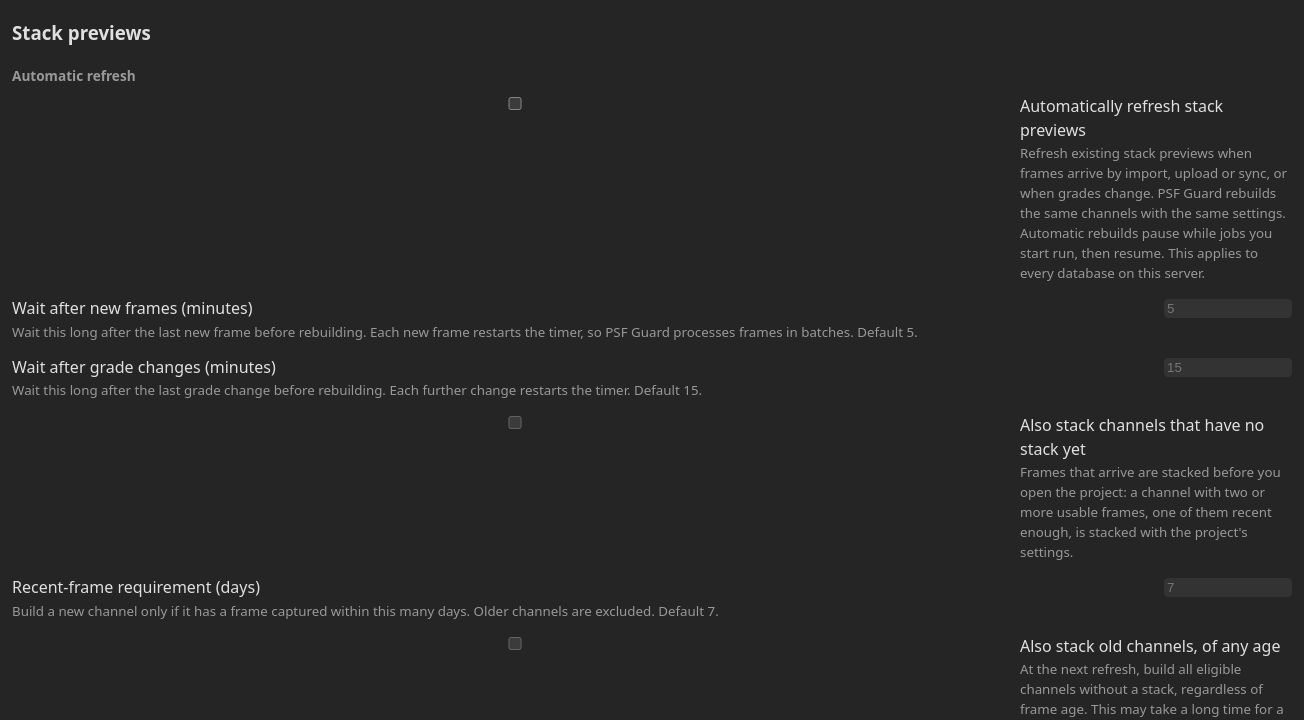
Test: StackAutomationSettings › saves the switch as soon as it is flipped
Click the checkbox labelled "Automatically refresh stack previews" at (515, 104), box [16,97,1014,110]
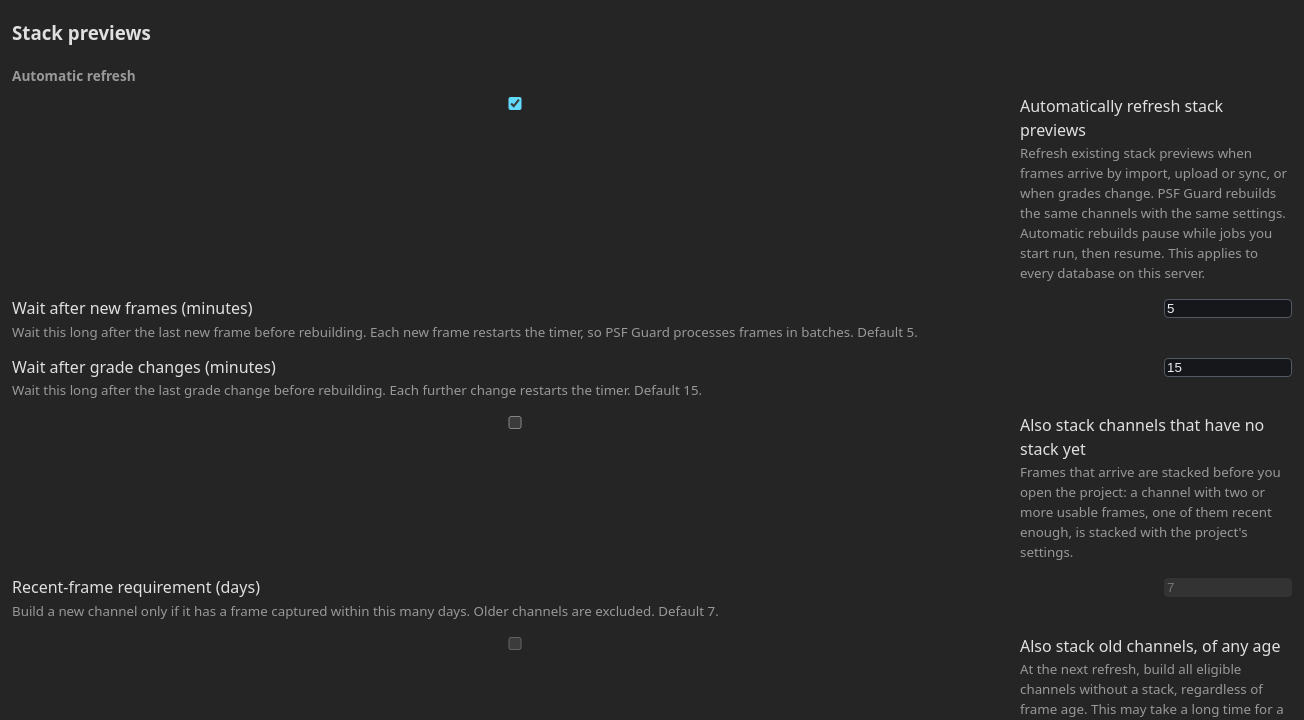
Now the number field named "Minutes to wait after new frames" is enabled, box [1164,299,1292,318]
